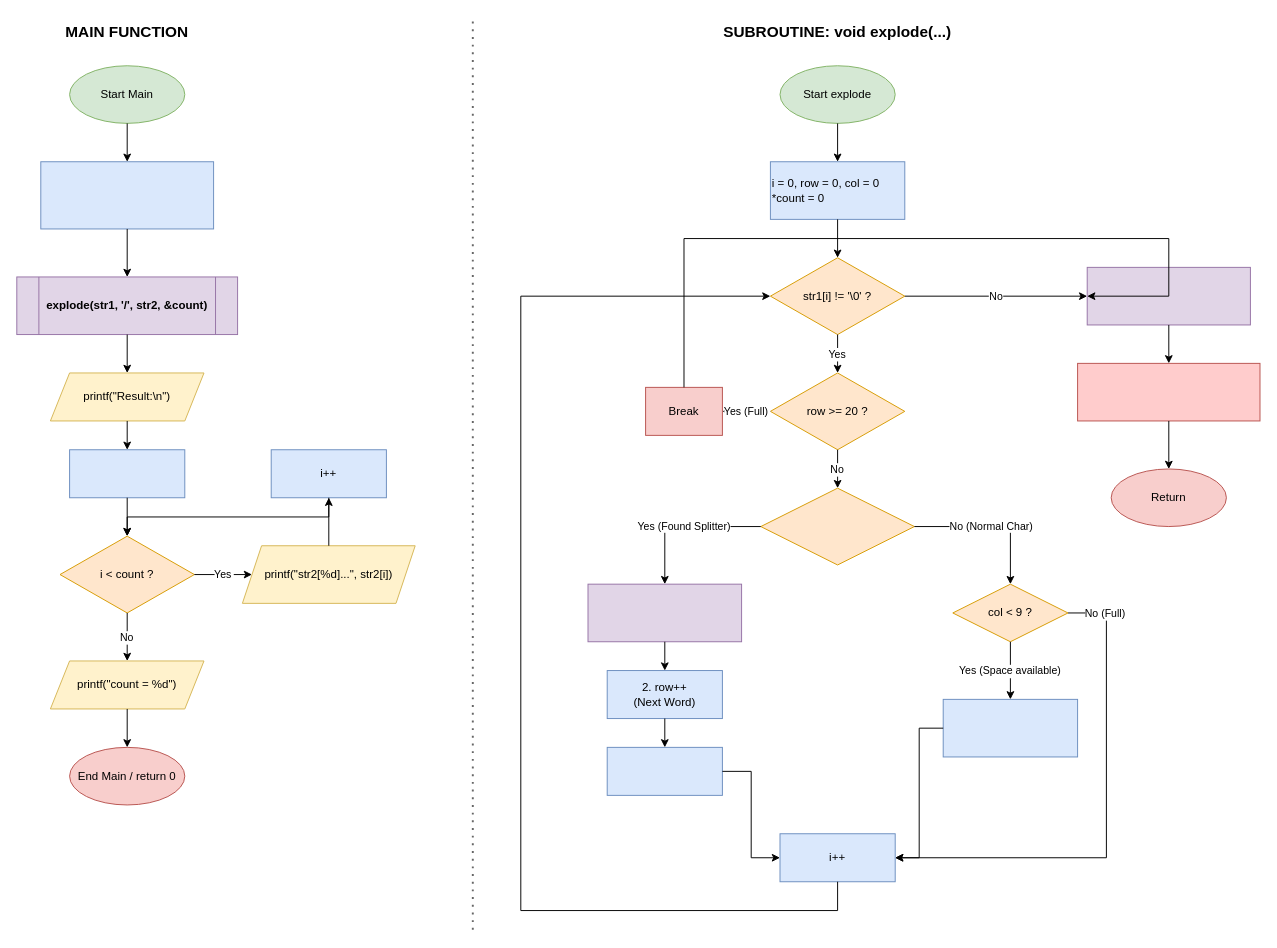
Image size: 1277x948. Some labels were removed from this diagram. The box of each missing label's shape, as (x1, y1, x2, y2) in pixels:
*count = row + 1 (Update main's variable): (1077, 362, 1260, 421)
1. str2[row][col] = '\0' (Close Word): (587, 583, 742, 642)
3. col = 0 (Reset Position): (606, 746, 722, 795)
char str1[] = "I/Love/You" char str2[20][10] count = 0: (40, 161, 214, 229)
i = 0: (69, 449, 185, 498)
str1[i] == splitter ?: (760, 487, 914, 565)
str2[row][col] = '\0' (Terminate very last word): (1086, 266, 1250, 325)
str2[row][col] = str1[i] col++: (942, 698, 1078, 757)
